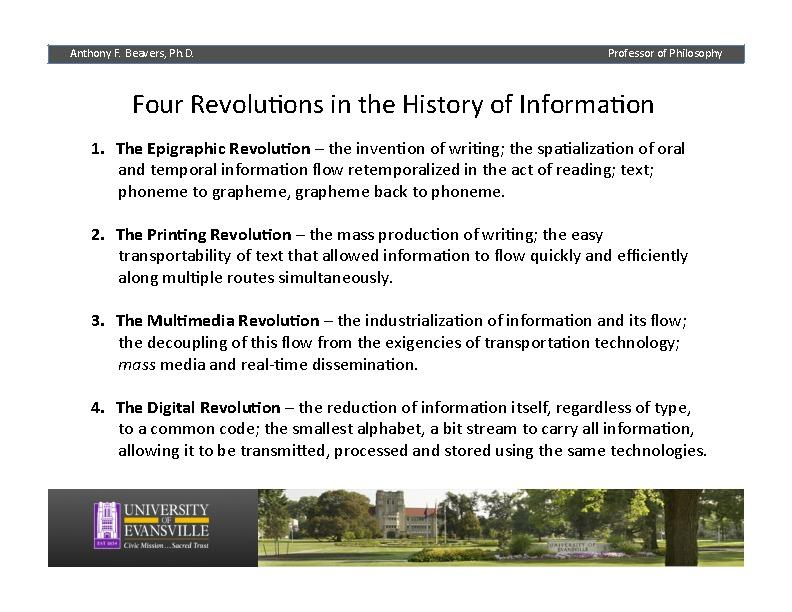paragraph: (75, 129, 766, 473)
title: (124, 77, 675, 127)
